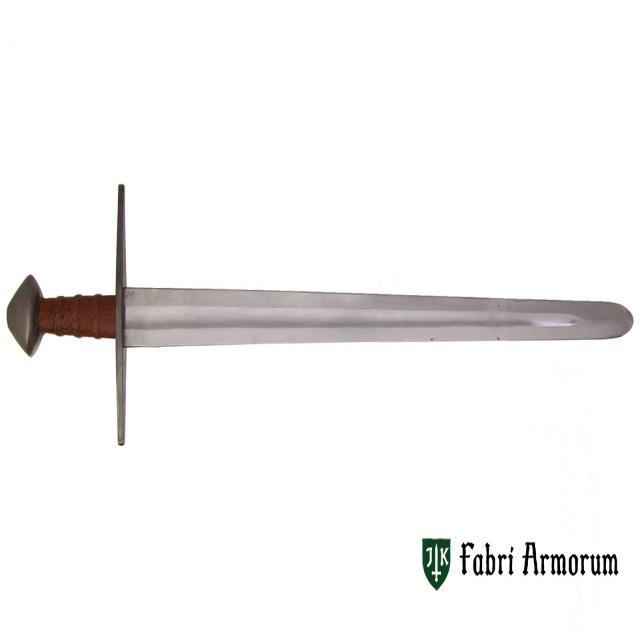sword: (6, 168, 637, 458)
